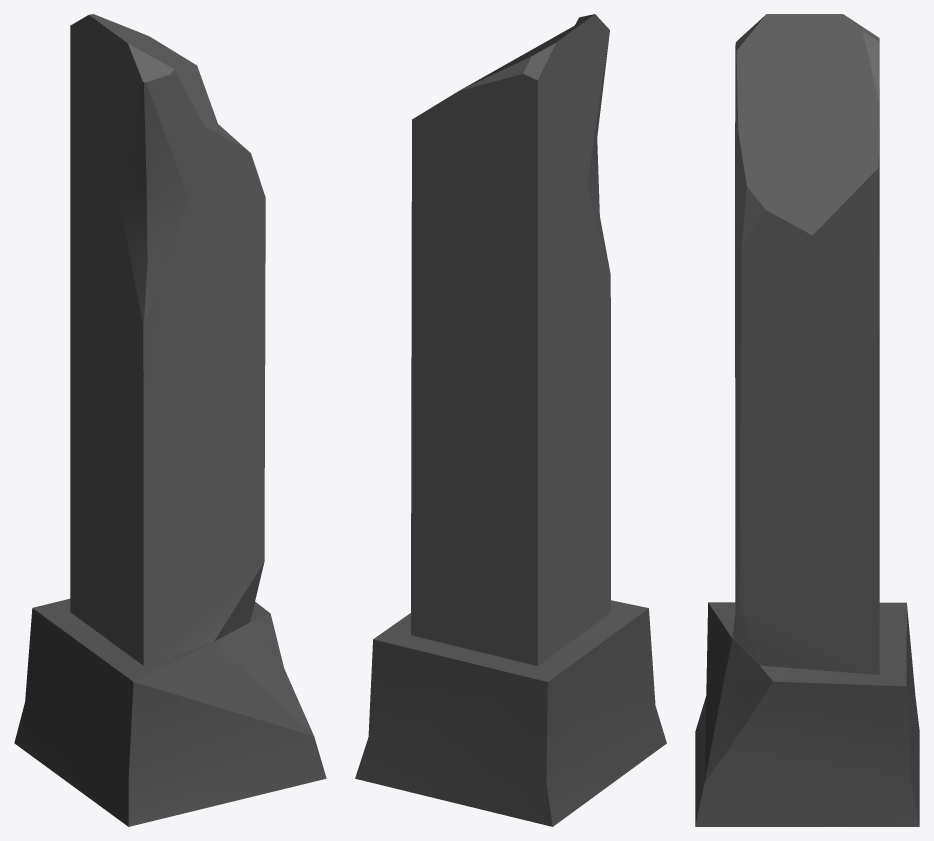
Rendered from Column_02.fbx.
3 views of the same model, side by side, from view 1: azimuth 30°, elevation 25°; view 2: azimuth 150°, elevation 25°; view 3: azimuth 270°, elevation 25° (orthographic).
Visible parts, largest first — view 1: Column_02_LOD0; view 2: Column_02_LOD0; view 3: Column_02_LOD0.
Part boxes in pixels (x1,y1,x2,y2): Column_02_LOD0: (14,14,326,826); Column_02_LOD0: (355,14,666,826); Column_02_LOD0: (695,14,919,826).
Size of what is drawn, in the model's own units: 0.5634 by 2.03 by 0.5634.
